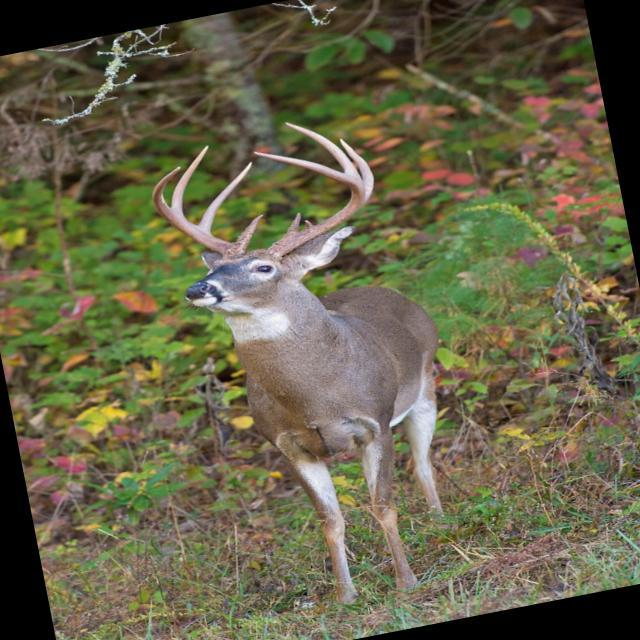E1: (304, 219, 314, 230)
L-F: (253, 151, 366, 260)
L-G1: (279, 212, 302, 240)
L-G3: (285, 121, 361, 178)
R-G1: (236, 214, 265, 248)
R-G2: (197, 161, 253, 234)
R-G3: (170, 144, 210, 219)
